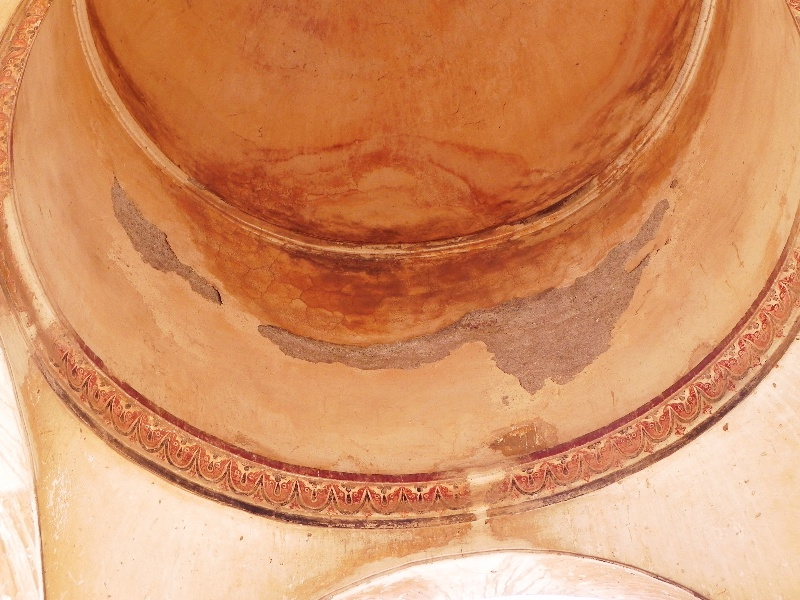Spalling: (482, 192, 677, 400), (103, 168, 224, 306), (246, 310, 479, 372)
